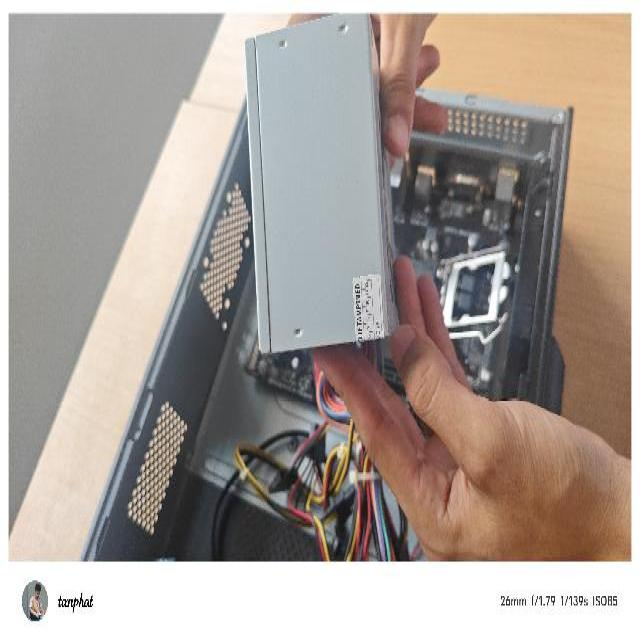PSU: (242, 10, 412, 360)
